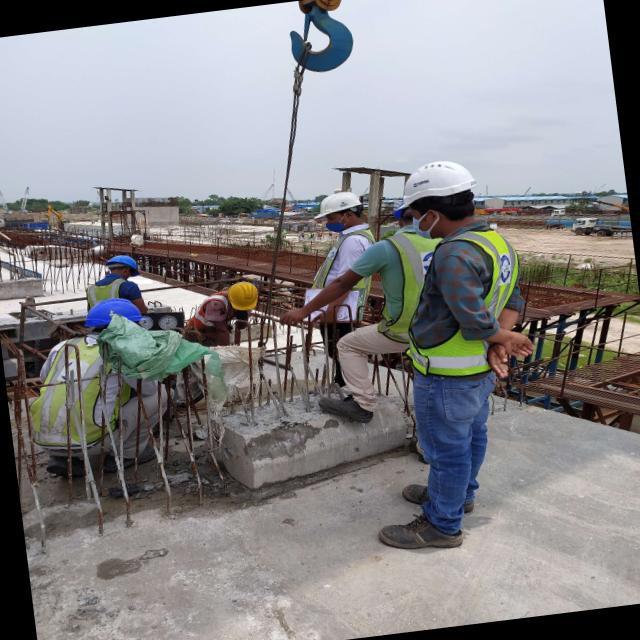cement: (24, 399, 640, 640)
